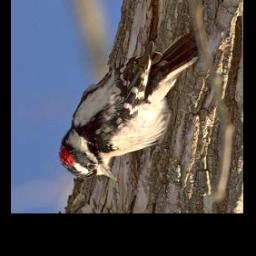Woodpecker: (57, 31, 199, 182)
